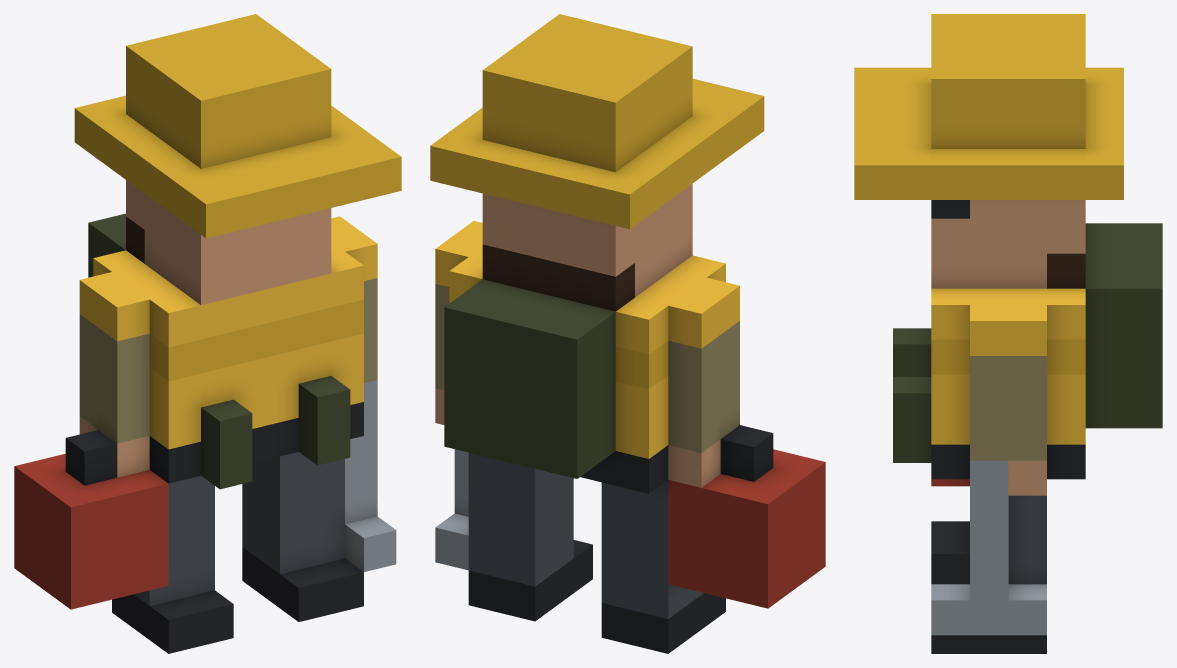
The model's file is cm_engineer_2.glb.
The picture shows the model from 3 angles, left to right: view 1: azimuth 30°, elevation 25°; view 2: azimuth 150°, elevation 25°; view 3: azimuth 270°, elevation 25°; orthographic projection. The views are drawn at different scales.
Parts seen in each view (by area): view 1: cm_engineer_2_body; view 2: cm_engineer_2_body; view 3: cm_engineer_2_body.
Boxes of the visible parts, <box> form: cm_engineer_2_body: <box>14,14,401,653</box>; cm_engineer_2_body: <box>430,14,825,653</box>; cm_engineer_2_body: <box>854,14,1162,653</box>.
Bounding box in the file's own units: 0.625 × 1 × 0.5.
Materials: 1 (1 with a texture image).
